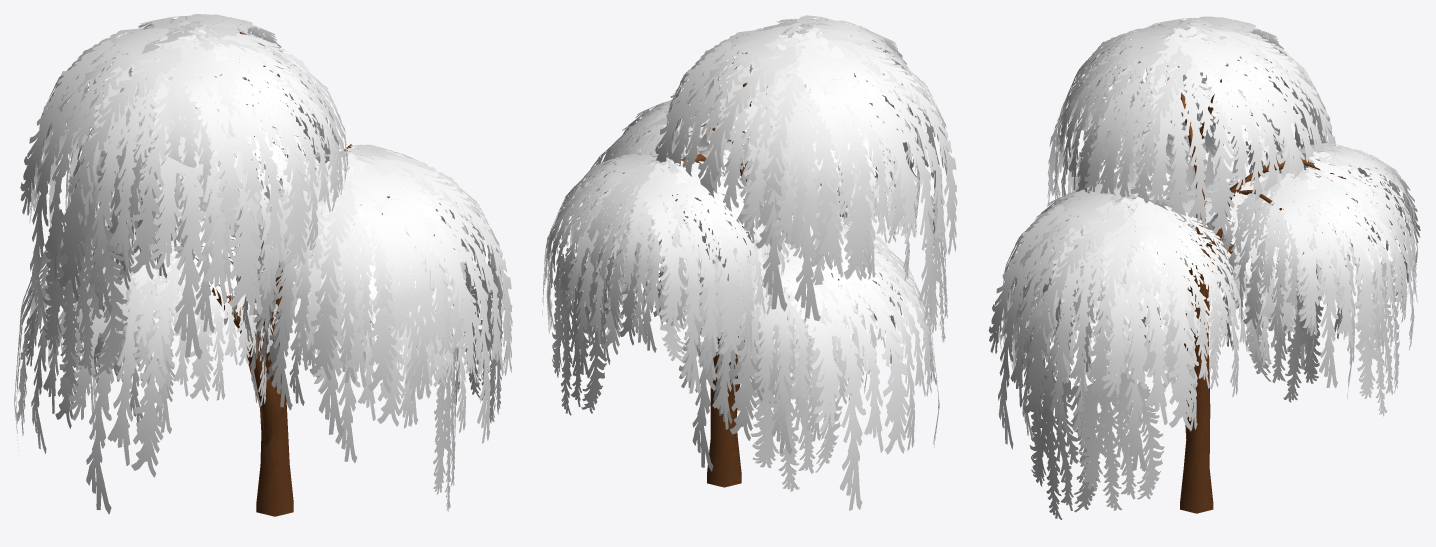
The model's file is STWillow2.glb.
The picture shows the model from 3 angles, left to right: view 1: azimuth 30°, elevation 25°; view 2: azimuth 150°, elevation 25°; view 3: azimuth 270°, elevation 25°; orthographic projection. The views are drawn at different scales.
Parts seen in each view (by area): view 1: WillowTree2; view 2: WillowTree2; view 3: WillowTree2.
Part boxes in pixels (x1,y1,x2,y2): WillowTree2: (14,14,512,516); WillowTree2: (542,15,957,510); WillowTree2: (988,16,1420,519).
Bounding box in the file's own units: 14.01 × 16.33 × 14.58.
Materials: 2 (2 with a texture image).
